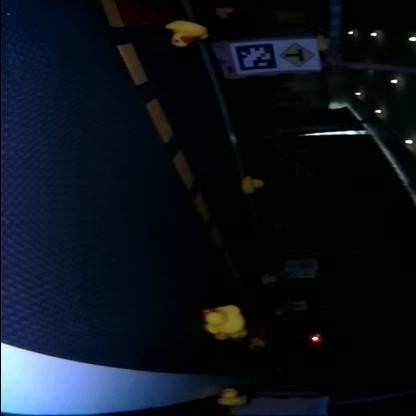Duckie: (206, 306, 244, 332), (168, 21, 208, 45), (220, 389, 244, 405), (242, 176, 262, 191), (216, 4, 235, 18), (249, 338, 265, 348), (262, 274, 274, 284)
Intersection sign: (277, 42, 318, 68)
QR code: (233, 42, 274, 70)
Traffic light: (310, 334, 322, 341)
